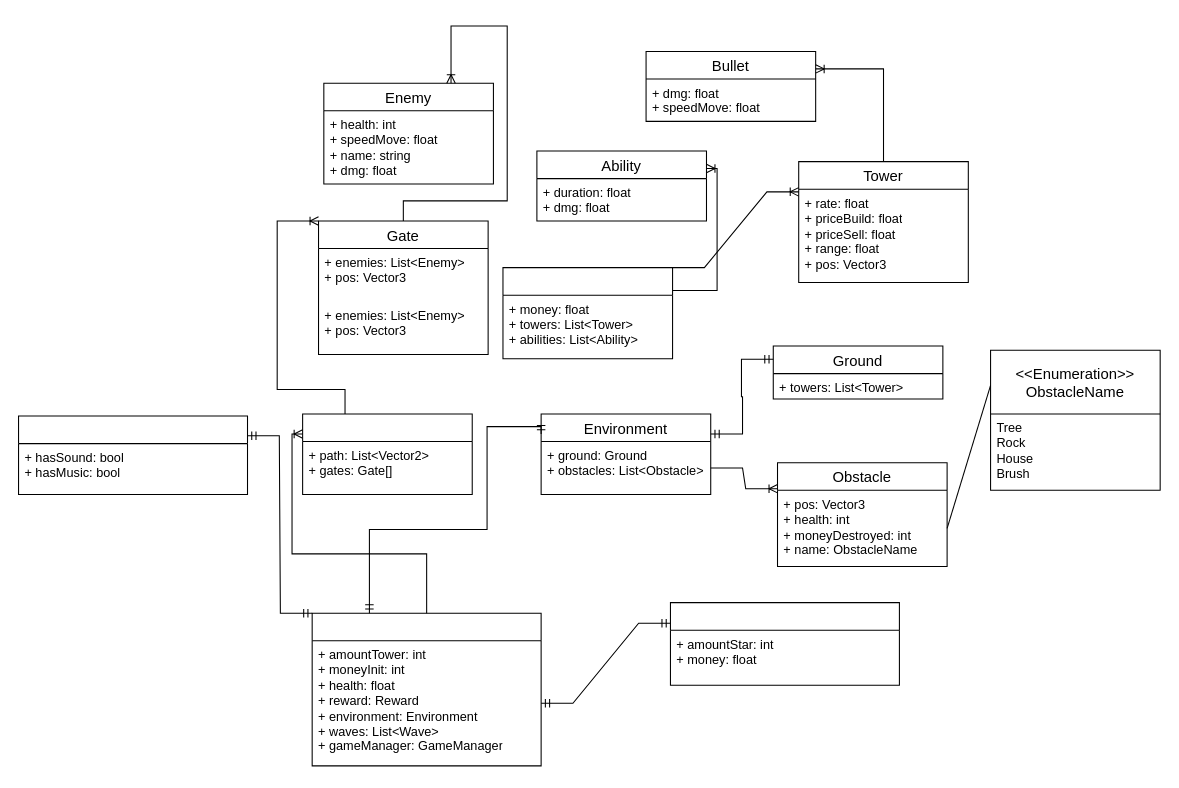
Some shapes in this 1179 by 788 pixel diagram are drawn without their labels. Here are the shapes that lost their labels. From the top down, the box of each, then its label:
(502, 267, 673, 359): Upgrade
(17, 415, 248, 494): GameManager
(302, 413, 472, 494): Wave
(669, 602, 899, 685): Reward
(311, 612, 541, 766): Level
